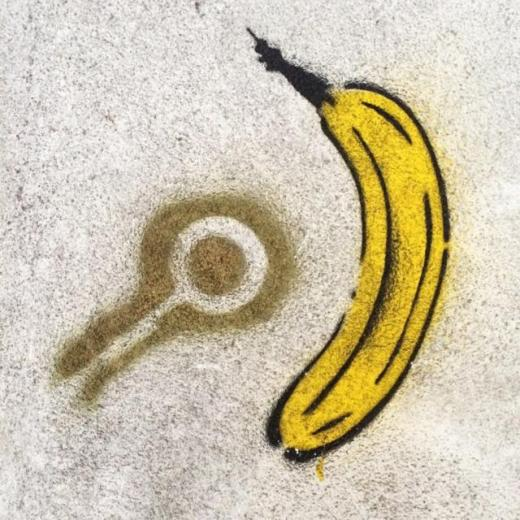Banana: (244, 23, 455, 479)
